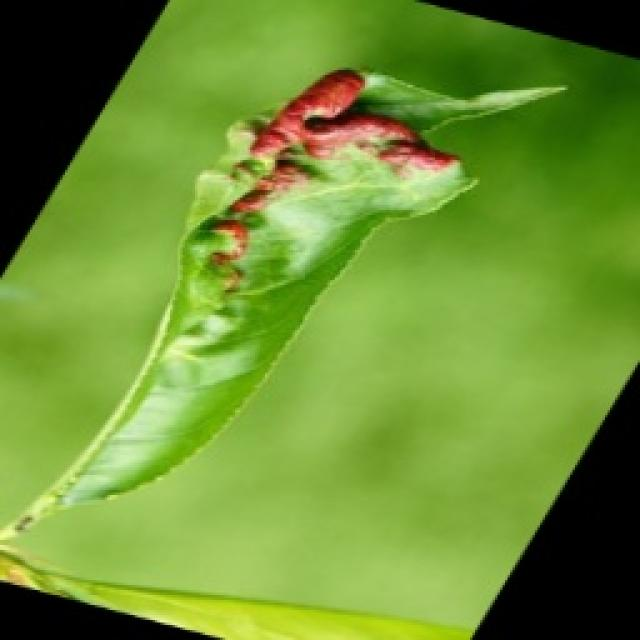peach_leaf_curl: (200, 65, 462, 293)
